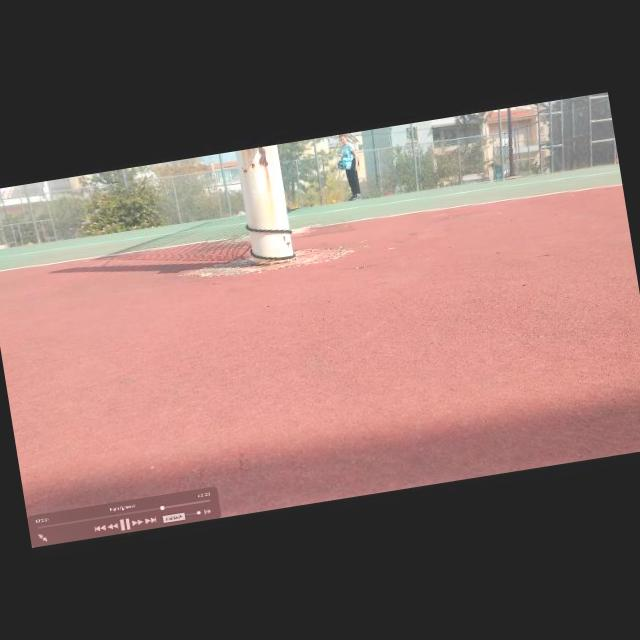Tennis Ball: (332, 200, 337, 203)
